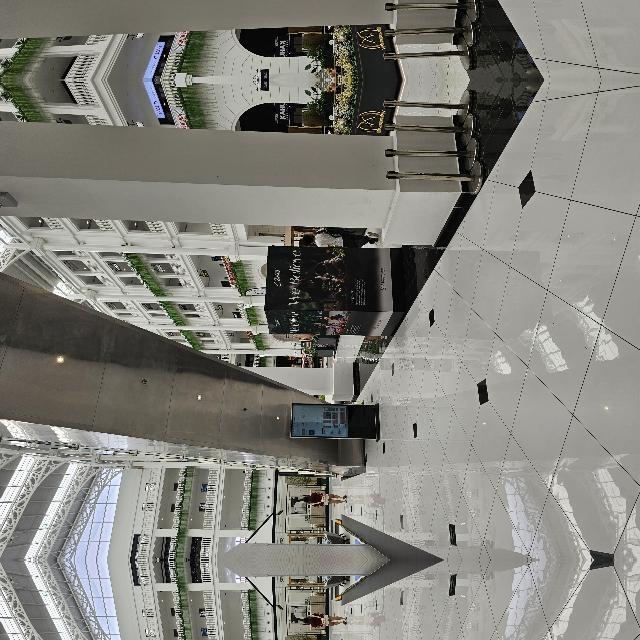obstacle: (311, 307, 465, 548), (222, 343, 310, 481), (311, 571, 465, 640), (119, 369, 160, 461), (222, 639, 310, 640)
person: (49, 382, 71, 431)
